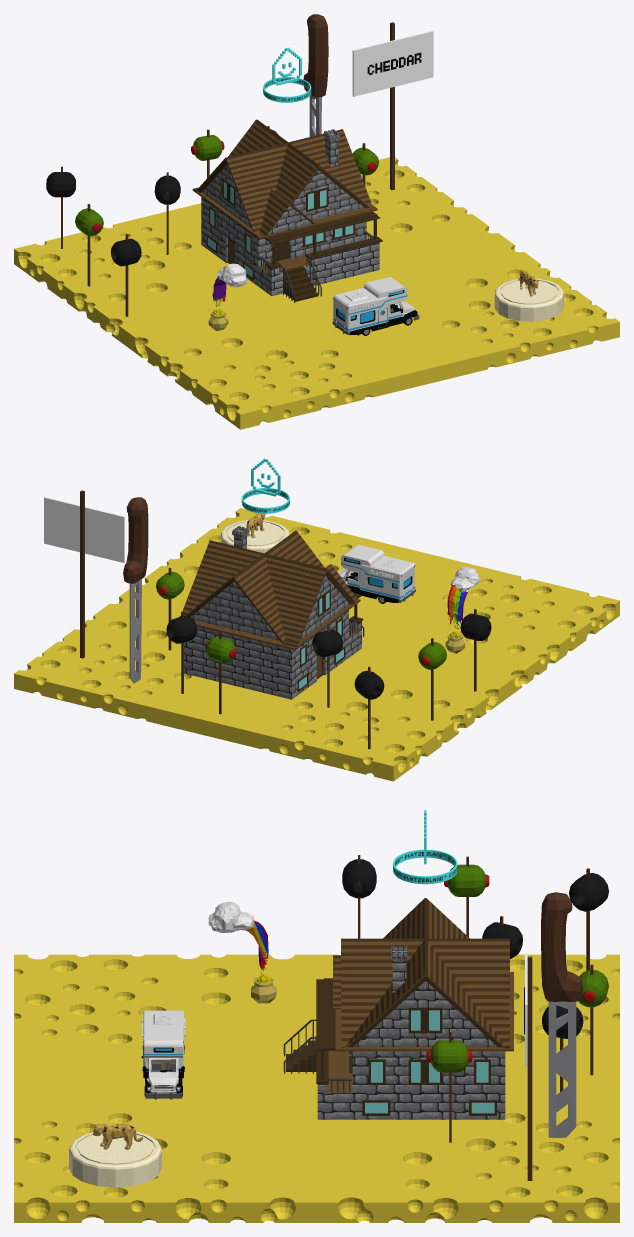
3 views of the same model, one above another, from view 1: azimuth 30°, elevation 25°; view 2: azimuth 150°, elevation 25°; view 3: azimuth 270°, elevation 25° (orthographic). The views are drawn at different scales.
Parts seen in each view (by area): view 1: Cube.022, Cube.586, Cube.023, VEHICLES_CAMPER, Cylinder.016, Cube.024, OBJRANDOM_RAINBOW, TYPE_PREMIUM, Sphere.017, Sphere.018, Sphere.016, Sphere.020 (+2 smaller); view 2: Cube.022, Cube.586, Cube.023, VEHICLES_CAMPER, Cube.024, OBJRANDOM_RAINBOW, Cylinder.016, TYPE_PREMIUM, Sphere.021, Sphere.017, Sphere.020, Sphere.022 (+3 smaller); view 3: Cube.022, Cube.586, Cube.024, Cylinder.016, VEHICLES_CAMPER, OBJRANDOM_RAINBOW, Cube.023, Sphere.019, Sphere.016, TYPE_PREMIUM, Sphere.017, Sphere.018 (+4 smaller).
Boxes of the visible parts, x1=… form: Cube.022: x1=14, y1=157, x2=619, y2=429; Cube.586: x1=192, y1=119, x2=382, y2=302; Cube.023: x1=352, y1=22, x2=433, y2=190; VEHICLES_CAMPER: x1=332, y1=277, x2=419, y2=335; Cylinder.016: x1=494, y1=278, x2=563, y2=321; Cube.024: x1=303, y1=14, x2=328, y2=136; OBJRANDOM_RAINBOW: x1=208, y1=263, x2=247, y2=330; TYPE_PREMIUM: x1=263, y1=47, x2=311, y2=102; Sphere.017: x1=111, y1=234, x2=141, y2=316; Sphere.018: x1=75, y1=204, x2=103, y2=286; Sphere.016: x1=46, y1=166, x2=75, y2=248; Sphere.020: x1=154, y1=172, x2=180, y2=254; Cube.022: x1=14, y1=508, x2=619, y2=781; Cube.586: x1=179, y1=526, x2=364, y2=699; Cube.023: x1=44, y1=490, x2=124, y2=658; VEHICLES_CAMPER: x1=338, y1=544, x2=415, y2=603; Cube.024: x1=123, y1=497, x2=148, y2=683; OBJRANDOM_RAINBOW: x1=445, y1=566, x2=479, y2=653; Cylinder.016: x1=220, y1=520, x2=289, y2=553; TYPE_PREMIUM: x1=241, y1=458, x2=289, y2=513; Sphere.021: x1=166, y1=611, x2=197, y2=693; Sphere.017: x1=460, y1=609, x2=491, y2=691; Sphere.020: x1=312, y1=625, x2=342, y2=707; Sphere.022: x1=205, y1=631, x2=236, y2=714; Cube.022: x1=14, y1=954, x2=619, y2=1222; Cube.586: x1=283, y1=898, x2=513, y2=1119; Cube.024: x1=541, y1=892, x2=583, y2=1137; Cylinder.016: x1=69, y1=1131, x2=161, y2=1187; VEHICLES_CAMPER: x1=141, y1=1010, x2=185, y2=1099; OBJRANDOM_RAINBOW: x1=208, y1=902, x2=276, y2=1003; Cube.023: x1=524, y1=953, x2=532, y2=1180; Sphere.019: x1=426, y1=1032, x2=472, y2=1142; Sphere.016: x1=569, y1=868, x2=608, y2=970; TYPE_PREMIUM: x1=393, y1=810, x2=457, y2=884; Sphere.017: x1=342, y1=855, x2=376, y2=938; Sphere.018: x1=444, y1=856, x2=489, y2=937.
Bounding box in the file's own units: 3917 × 2325 × 4000.
41 materials, 5 textured.
